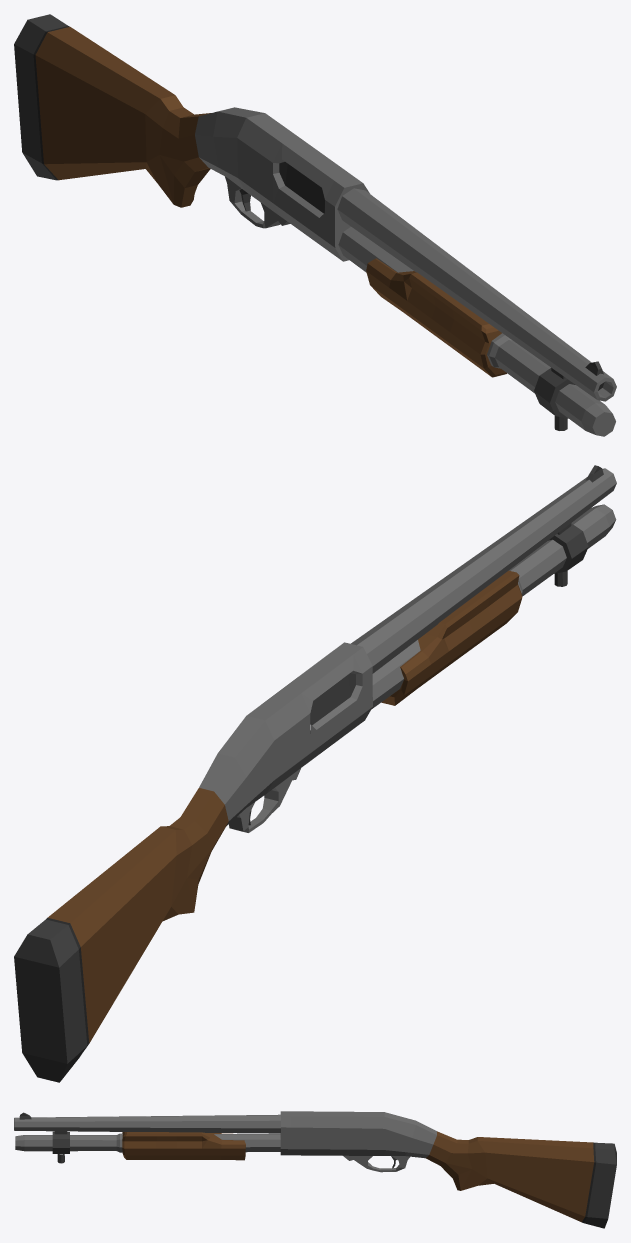
Rendered from Shotgun_Gun.glb.
3 renders of one model, top to bottom at view 1: azimuth 30°, elevation 25°; view 2: azimuth 150°, elevation 25°; view 3: azimuth 270°, elevation 25°, orthographic. The views are drawn at different scales.
Parts seen in each view (by area): view 1: basicShotgun (1); view 2: basicShotgun (1); view 3: basicShotgun (1).
Part boxes in pixels (x1,y1,x2,y2): basicShotgun (1): (14,14,616,436); basicShotgun (1): (14,465,616,1082); basicShotgun (1): (14,1111,616,1228).
Bounding box in the file's own units: 0.0519 × 0.2331 × 1.13.
Materials: 1 (1 with a texture image).
